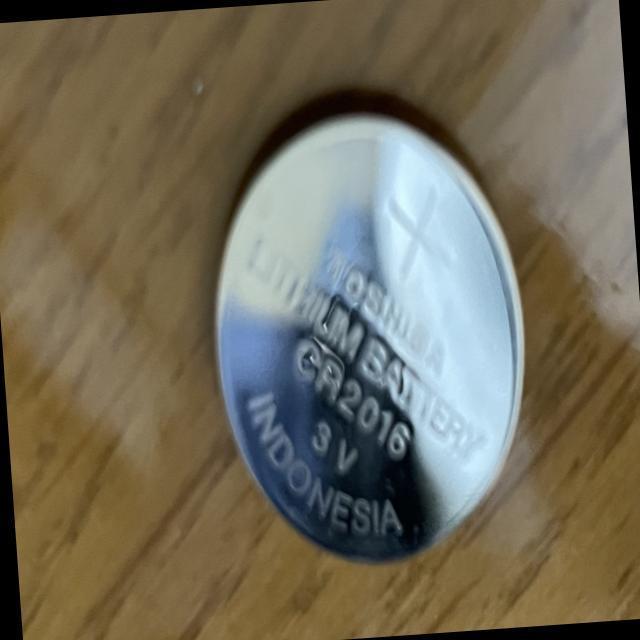COIN: (195, 91, 543, 578)
